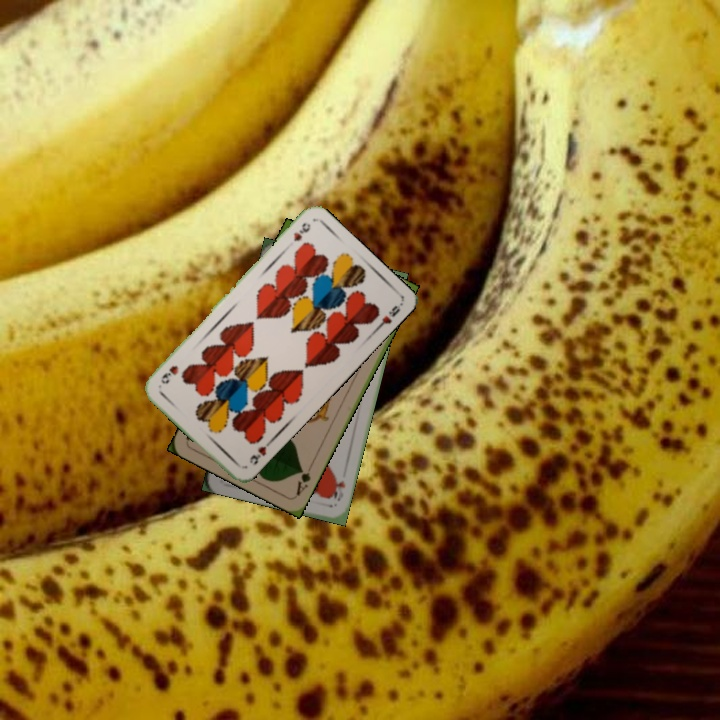GA: (292, 460, 315, 498)
H9: (245, 437, 274, 468), (289, 218, 313, 244)
HO: (327, 473, 348, 504)
